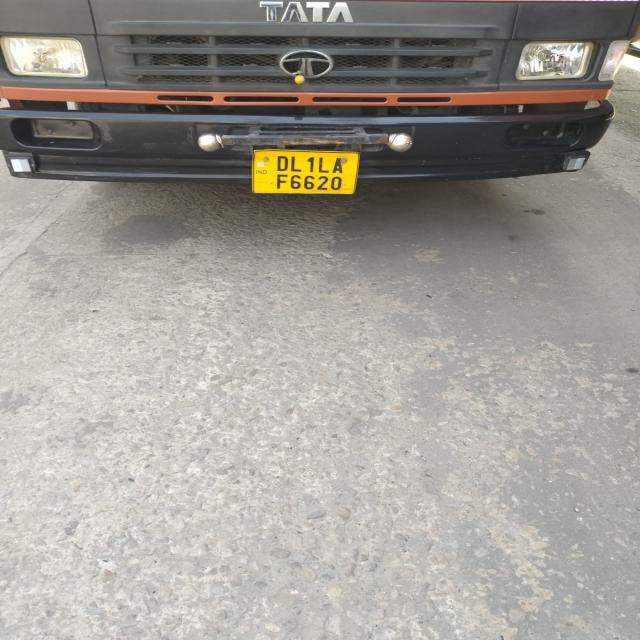License-plate: (258, 146, 360, 200)
